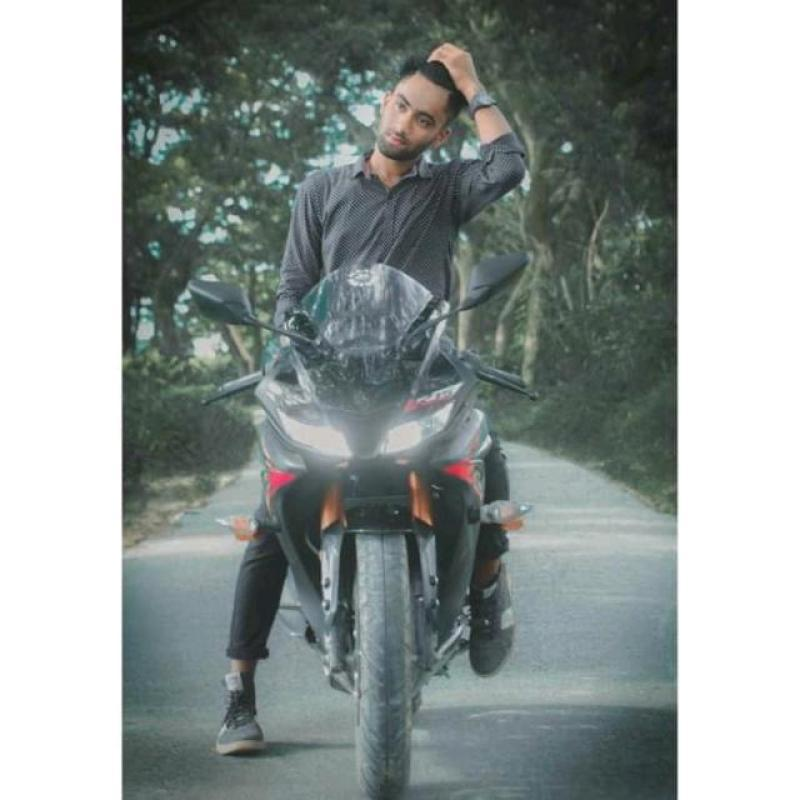nohelmet: (354, 53, 474, 176)
